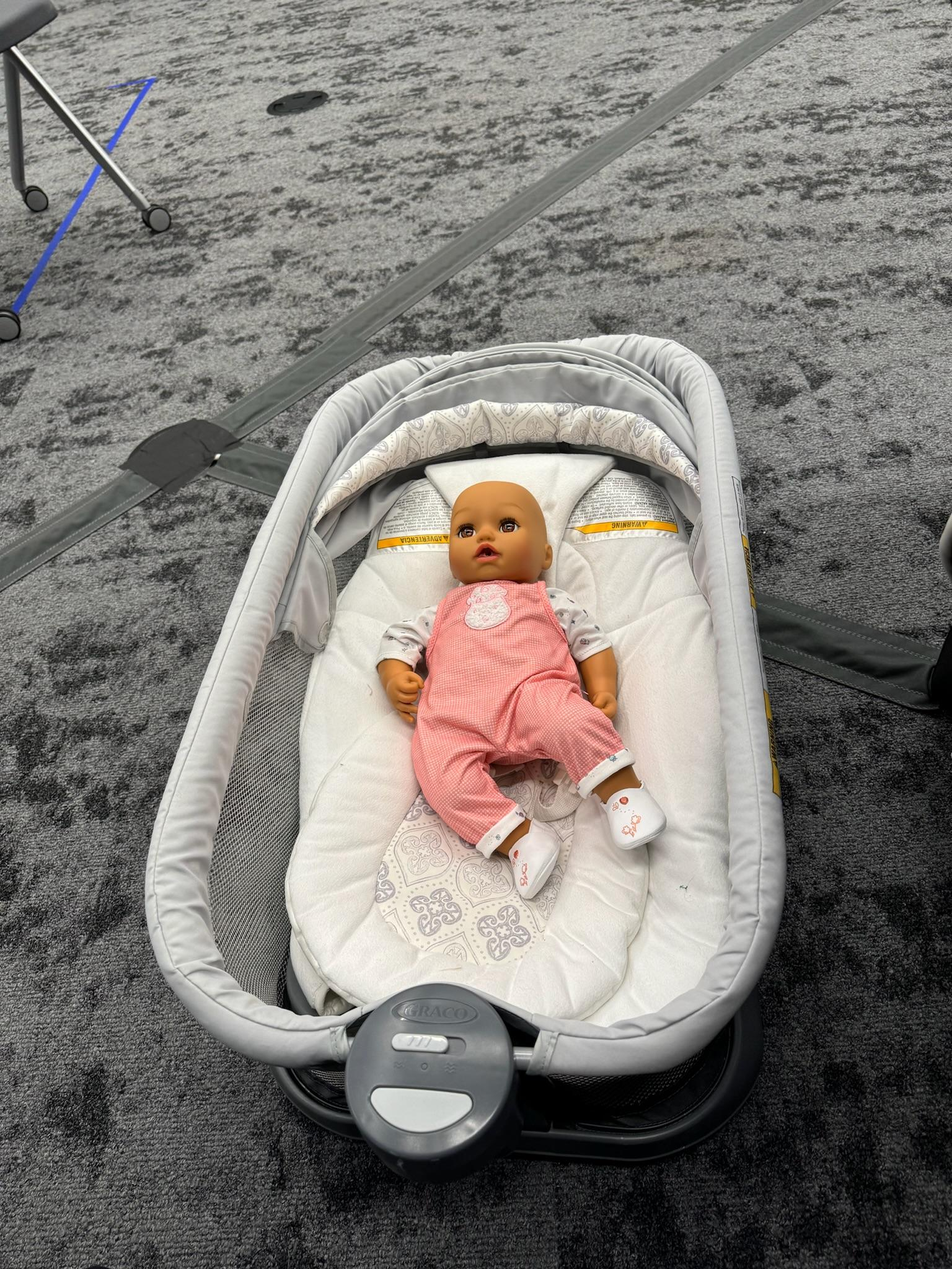baby: (378, 476, 681, 895)
